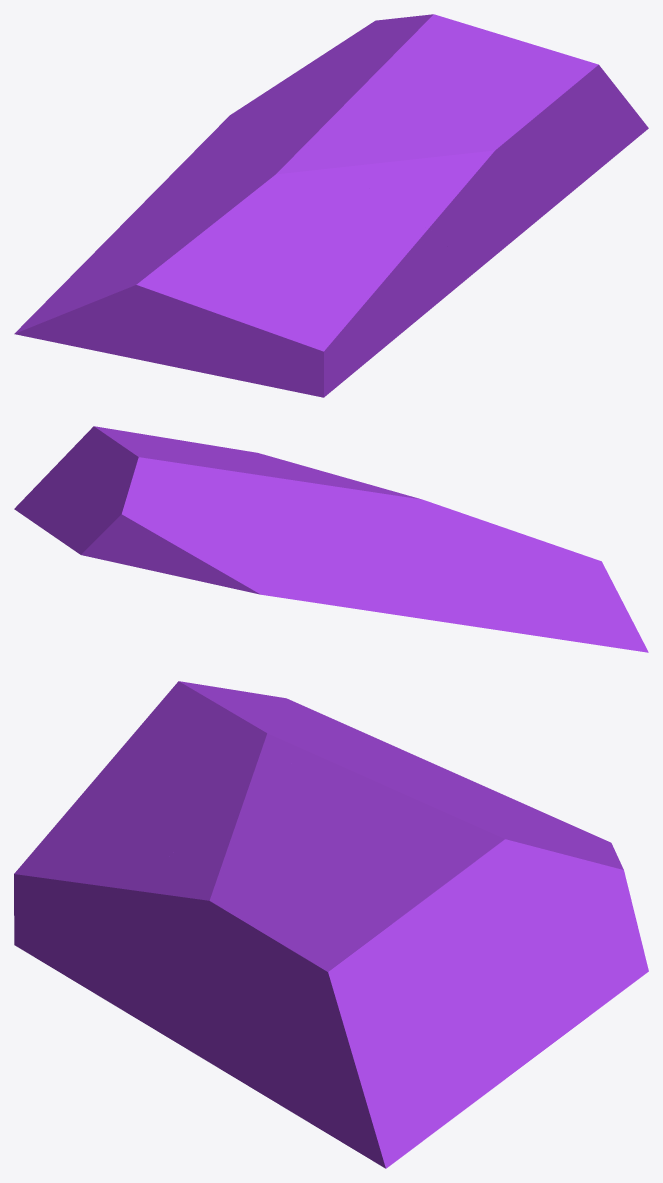
The model's file is Window_141_4_chunks.fbx.
3 renders of one model, top to bottom at view 1: azimuth 30°, elevation 25°; view 2: azimuth 150°, elevation 25°; view 3: azimuth 270°, elevation 25°, orthographic. The views are drawn at different scales.
Parts seen in each view (by area): view 1: Window_141_4_2, Window_141_4_3, Window_141_4_1, Window_141_4_0; view 2: Window_141_4_0, Window_141_4_2, Window_141_4_1, Window_141_4_3; view 3: Window_141_4_1, Window_141_4_2, Window_141_4_3, Window_141_4_0.
Part boxes in pixels (x1,y1,x2,y2): Window_141_4_2: (14,141,447,397); Window_141_4_3: (303,16,550,240); Window_141_4_1: (443,24,648,298); Window_141_4_0: (134,14,440,212); Window_141_4_0: (81,456,433,620); Window_141_4_2: (360,486,648,652); Window_141_4_1: (14,426,168,554); Window_141_4_3: (130,438,374,496); Window_141_4_1: (150,852,648,1168); Window_141_4_2: (14,681,466,1026); Window_141_4_3: (133,753,497,947); Window_141_4_0: (332,759,648,970).
Bounding box in the file's own units: 663 × 190 × 356.
